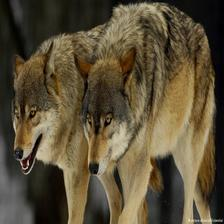WOLF: (78, 22, 224, 224), (10, 42, 81, 189)
